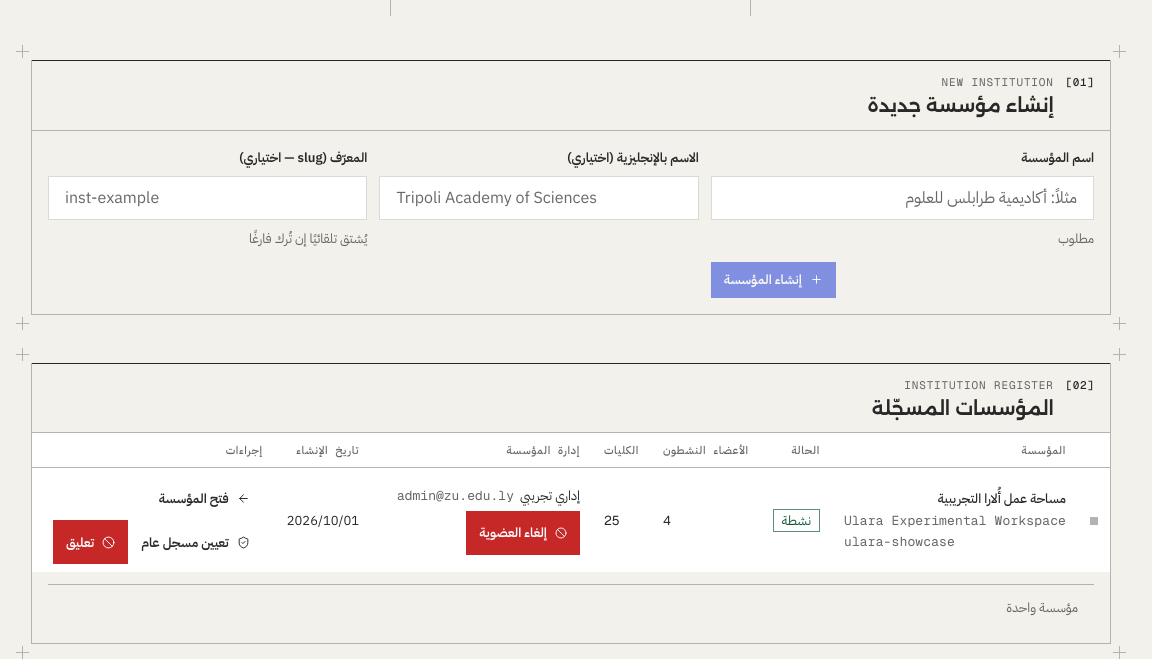
Test case: OwnerInstitutionsPage — provision admin modal (r178) › opens with the institution named and the mode + email fields
The image size is (1152, 659).
(page scrolled)
Click the button "تعيين مسجل عام": (195, 542) [128,520,263,564]
(page scrolled)
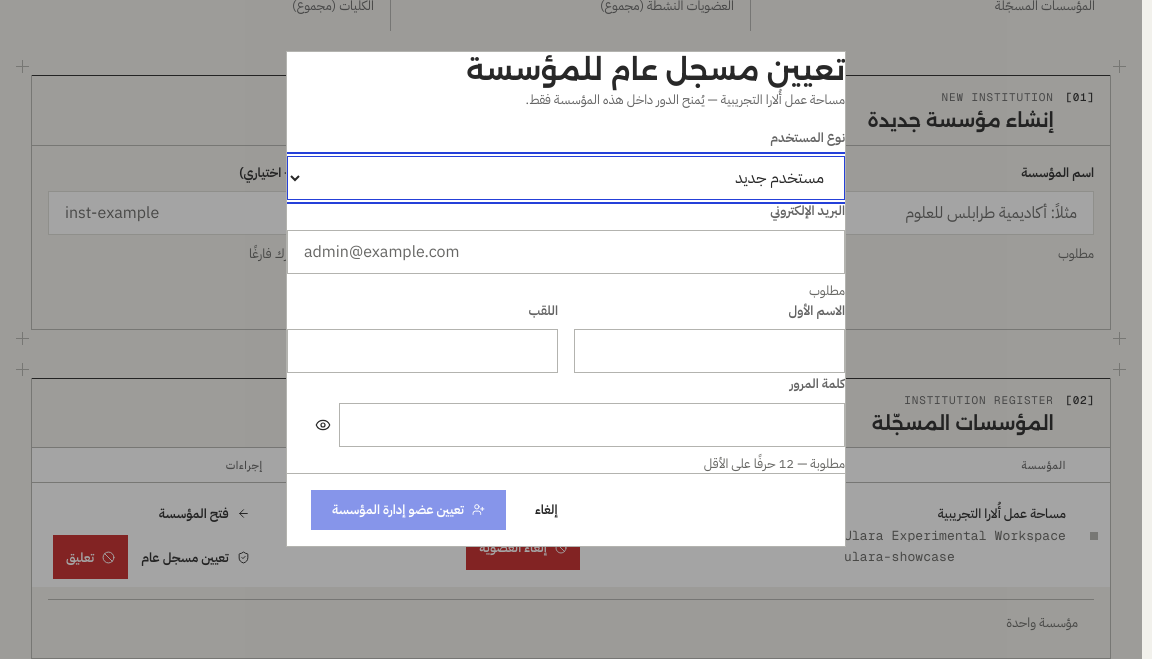
Result: the text "مساحة عمل أُلارا التجريبية" is shown at [721,90,845,109]
Result: the dropdown labelled "نوع المستخدم" shows "مستخدم جديد" at [287,156,845,200]
Result: the field labelled "البريد الإلكتروني" is shown at [287,230,845,274]
